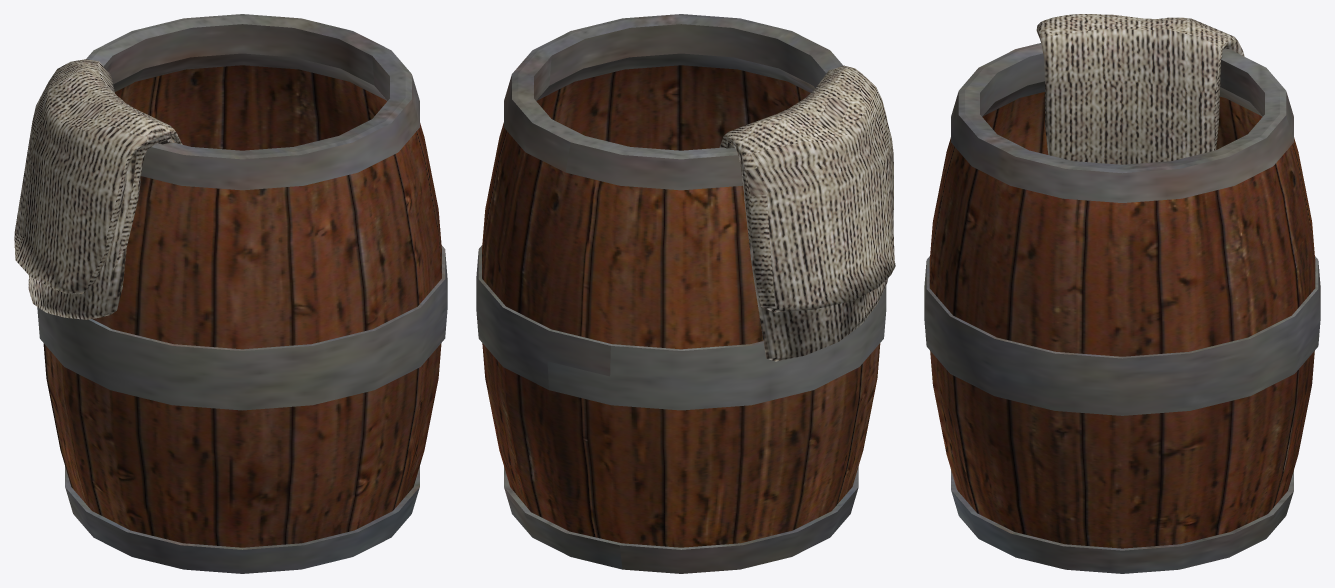
The model's file is Barrel_cloth.FBX.
The picture shows the model from 3 angles, left to right: view 1: azimuth 30°, elevation 25°; view 2: azimuth 150°, elevation 25°; view 3: azimuth 270°, elevation 25°; orthographic projection. The views are drawn at different scales.
Visible parts, largest first — view 1: barrel_open with cloth, Folded Cloth; view 2: barrel_open with cloth, Folded Cloth; view 3: barrel_open with cloth, Folded Cloth.
Part boxes in pixels (box(x1,y1,x2,y2)): barrel_open with cloth: box(37, 14, 447, 573); Folded Cloth: box(14, 59, 182, 319); barrel_open with cloth: box(476, 14, 886, 573); Folded Cloth: box(719, 65, 895, 361); barrel_open with cloth: box(924, 43, 1320, 573); Folded Cloth: box(1036, 14, 1244, 164).
Size of the model in its own units: 264 by 288 by 243.
Materials: 3 (3 with a texture image).
